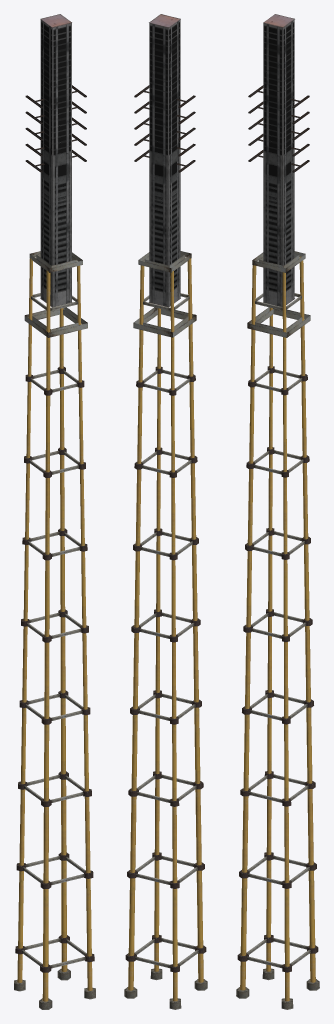
Rendered from TowerBigAntenna02.FBX.
3 views of the same model, side by side, from view 1: azimuth 30°, elevation 25°; view 2: azimuth 150°, elevation 25°; view 3: azimuth 330°, elevation 25° (orthographic).
Parts seen in each view (by area): view 1: TowerBigAntenna02; view 2: TowerBigAntenna02; view 3: TowerBigAntenna02.
Part boxes in pixels (x1,y1,x2,y2): TowerBigAntenna02: [14, 14, 95, 1009]; TowerBigAntenna02: [124, 14, 207, 1009]; TowerBigAntenna02: [236, 14, 319, 1009].
Size of the model in its own units: 27.82 by 460 by 27.82.
